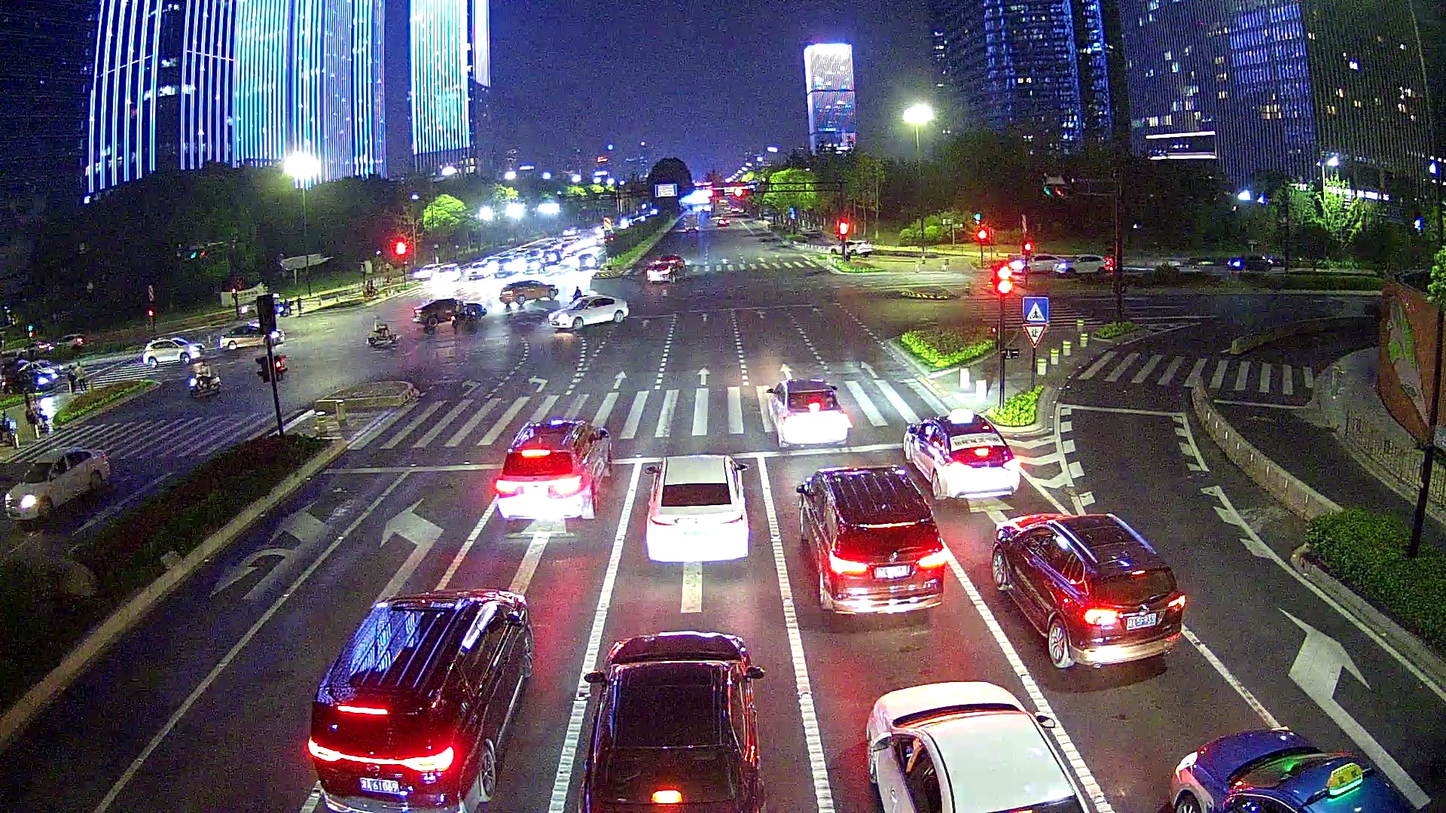vehicle: (303, 584, 537, 811), (577, 626, 769, 810), (981, 507, 1188, 671), (856, 678, 1097, 810), (792, 464, 950, 617), (1156, 724, 1406, 811), (490, 416, 615, 521), (642, 451, 755, 564), (897, 405, 1023, 503), (4, 444, 111, 523), (762, 375, 852, 446), (542, 291, 632, 329), (139, 333, 201, 359)
